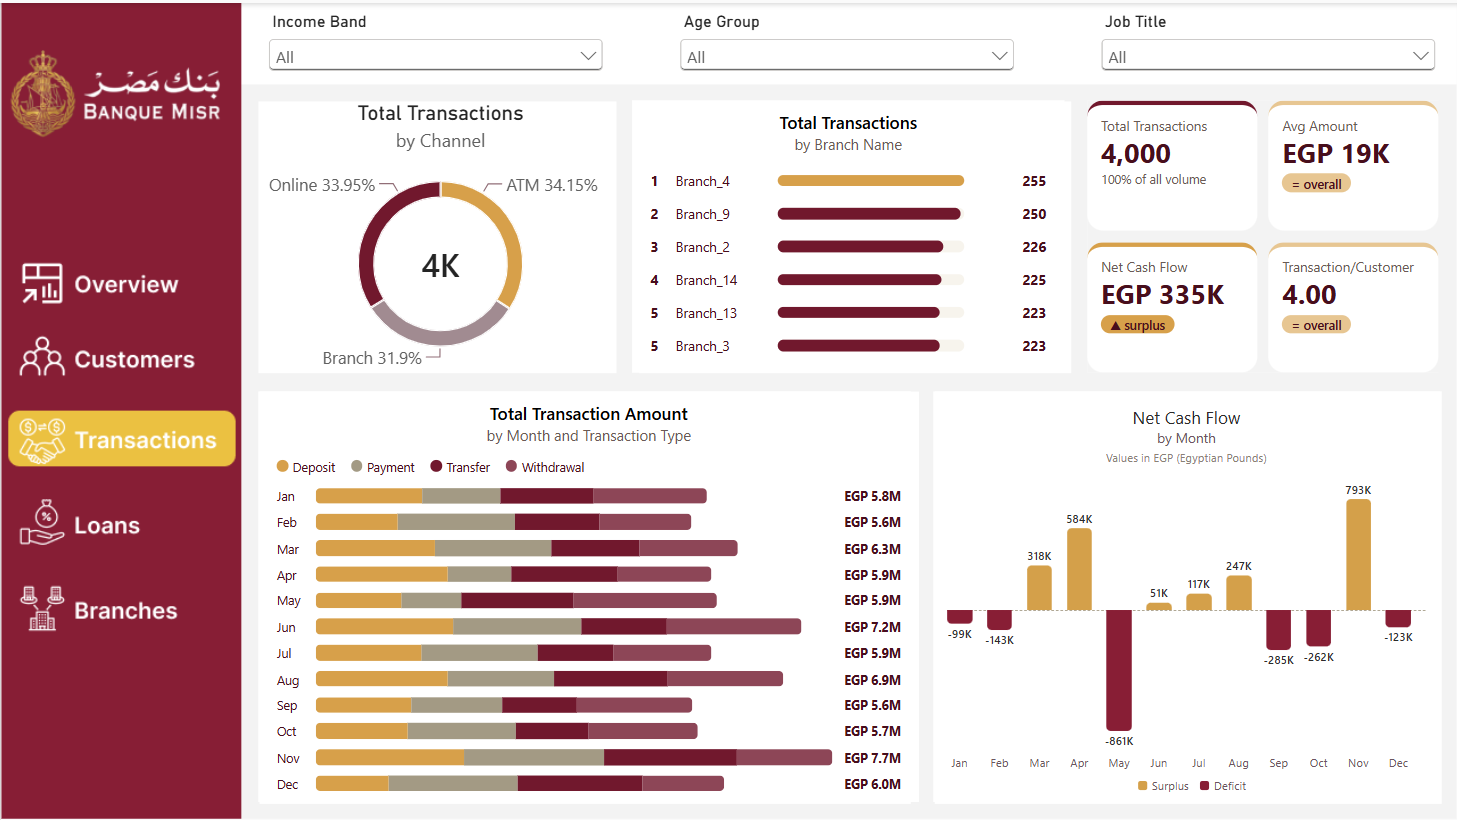

The page's visual inventory and layout, read from the dashboard file:
{"tool":"powerbi","page":{"name":"Transactions","canvas":[1280,720],"ordinal":3},"visuals":[{"type":"slicer","fields":{"Values":["DimCustomers.Income Band"]},"box":[231,8,303.6,63.1],"z":0},{"type":"slicer","fields":{"Values":["DimCustomers.Age Group"]},"box":[592.9,8,303.6,63.1],"z":1000},{"type":"slicer","fields":{"Values":["DimCustomers.Job_Title"]},"box":[963.1,8,303.6,63.1],"z":2000},{"type":"actionButton","box":[3.6,221.4,206,52.4],"z":3000},{"type":"actionButton","box":[0,285.7,206,52.4],"z":4000},{"type":"actionButton","box":[2.4,432.1,206,52.4],"z":5000},{"type":"actionButton","box":[2.4,506,206,52.4],"z":6000},{"type":"htmlContent443BE3AD55E043BF878BED274D3A6855","fields":{"content":["HTML.HTML KPI Transactions"]},"box":[955,85.7,309,239.3],"z":7000},{"type":"htmlContent443BE3AD55E043BF878BED274D3A6855","fields":{"content":["HTML.HTML Transactions Amount by Month and Type"]},"box":[227,342,581,361],"z":8000},{"type":"htmlContent443BE3AD55E043BF878BED274D3A6855","fields":{"content":["HTML.HTML Net Cash Flow Chart"]},"box":[820,342,445,361],"z":9000},{"type":"donutChart","fields":{"Series":["FactTransactions.Channel"],"Y":["Dax.Total Transactions"]},"box":[226.2,85.7,320.2,240.5],"z":10000},{"type":"htmlContent443BE3AD55E043BF878BED274D3A6855","fields":{"content":["HTML.HTML Transactions by Branch Name"]},"box":[554.8,85.7,380,239],"z":11000}]}

Visuals, with their boxes in screenshot pixels (x1, y1, x2, y2), scaled from the page's 1280x720 canvas onto the 1457x820 screenshot:
slicer - DimCustomers.Income Band: [x1=263, y1=9, x2=609, y2=81]
slicer - DimCustomers.Age Group: [x1=675, y1=9, x2=1020, y2=81]
slicer - DimCustomers.Job_Title: [x1=1096, y1=9, x2=1442, y2=81]
actionButton: [x1=4, y1=252, x2=239, y2=312]
actionButton: [x1=0, y1=325, x2=234, y2=385]
actionButton: [x1=3, y1=492, x2=237, y2=552]
actionButton: [x1=3, y1=576, x2=237, y2=636]
htmlContent443BE3AD55E043BF878BED274D3A6855 - HTML.HTML KPI Transactions: [x1=1087, y1=98, x2=1439, y2=370]
htmlContent443BE3AD55E043BF878BED274D3A6855 - HTML.HTML Transactions Amount by Month and Type: [x1=258, y1=390, x2=920, y2=801]
htmlContent443BE3AD55E043BF878BED274D3A6855 - HTML.HTML Net Cash Flow Chart: [x1=933, y1=390, x2=1440, y2=801]
donutChart - FactTransactions.Channel x Dax.Total Transactions: [x1=257, y1=98, x2=622, y2=372]
htmlContent443BE3AD55E043BF878BED274D3A6855 - HTML.HTML Transactions by Branch Name: [x1=632, y1=98, x2=1064, y2=370]
